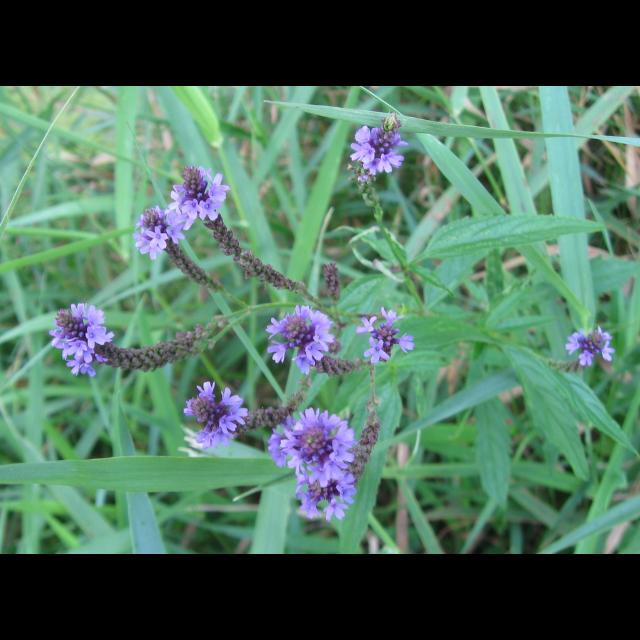Flower: (269, 408, 355, 522), (130, 167, 224, 261), (50, 303, 114, 379), (182, 384, 252, 450), (264, 303, 332, 369), (356, 304, 414, 364), (350, 124, 410, 172), (566, 329, 614, 369)
